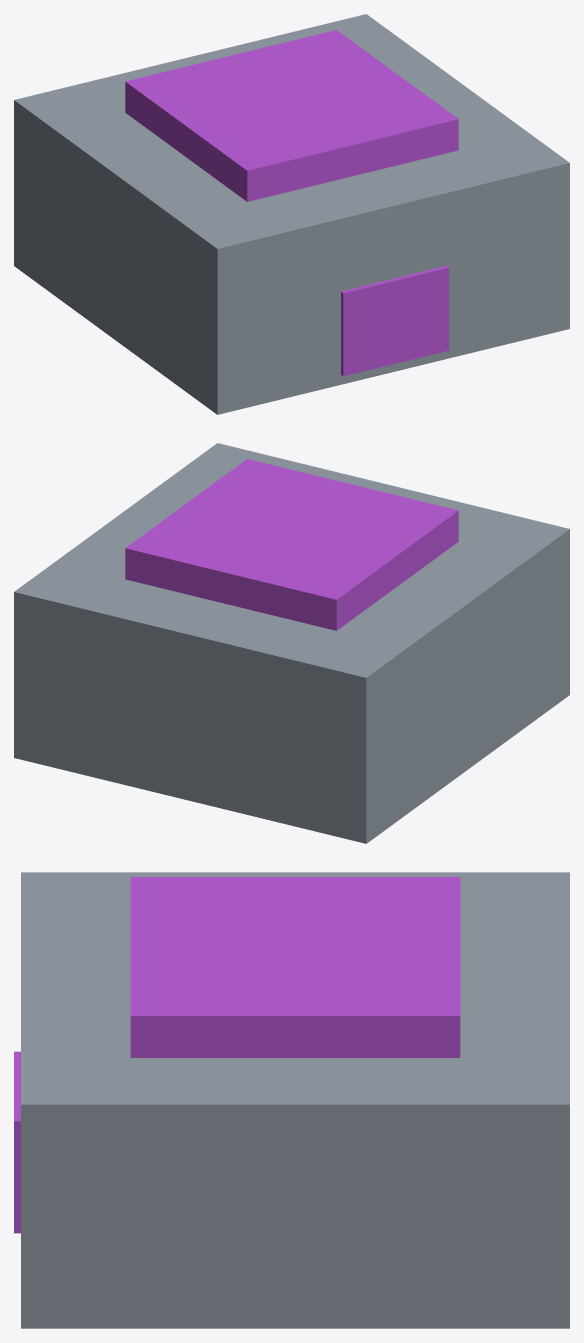
File: SM_Chronolegion_CH_Refinery_Blockout.fbx
The picture shows the model from 3 angles, top to bottom: view 1: azimuth 30°, elevation 25°; view 2: azimuth 150°, elevation 25°; view 3: azimuth 270°, elevation 25°; orthographic projection. The views are drawn at different scales.
Parts seen in each view (by area): view 1: MainBuilding, RoofStructure, EntranceGate; view 2: MainBuilding, RoofStructure; view 3: MainBuilding, RoofStructure, EntranceGate.
Part boxes in pixels (<box>): MainBuilding: <box>14,14,569,414</box>; RoofStructure: <box>125,30,458,201</box>; EntranceGate: <box>341,265,449,376</box>; MainBuilding: <box>14,443,569,843</box>; RoofStructure: <box>125,459,458,630</box>; MainBuilding: <box>21,872,569,1328</box>; RoofStructure: <box>130,877,460,1057</box>; EntranceGate: <box>14,1051,20,1233</box>.
Size of the model in its own units: 800 by 428 by 810.
